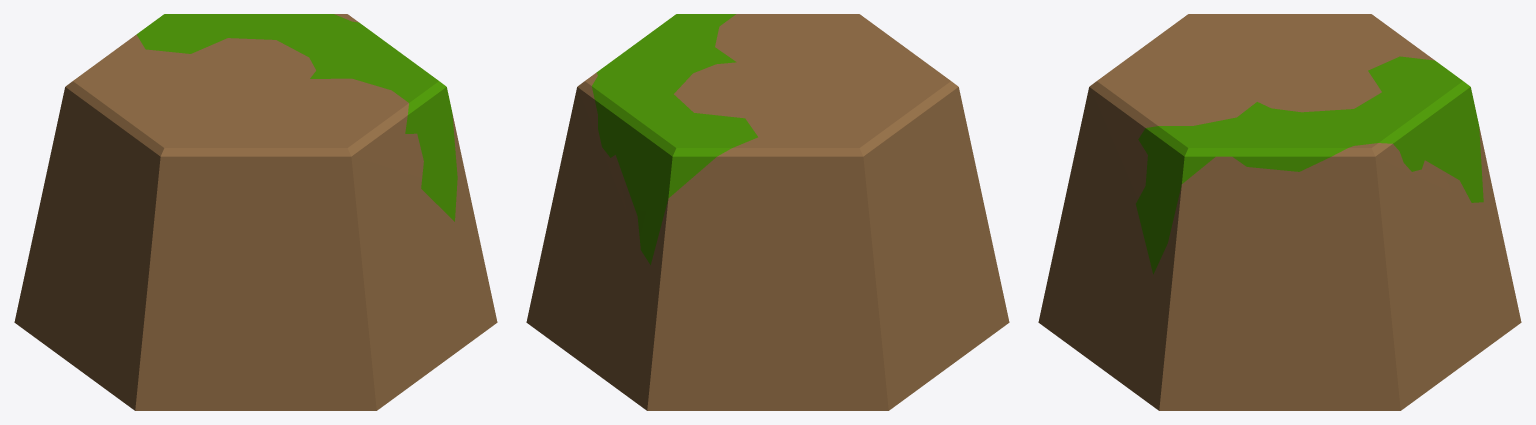
The model's file is RPG_Tiles_Hex_Mound_Moss_Large_01.FBX.
The picture shows the model from 3 angles, left to right: view 1: azimuth 30°, elevation 25°; view 2: azimuth 150°, elevation 25°; view 3: azimuth 270°, elevation 25°; orthographic projection.
Parts seen in each view (by area): view 1: RPG_Tiles_Hex_Mound_Moss_Large_01; view 2: RPG_Tiles_Hex_Mound_Moss_Large_01; view 3: RPG_Tiles_Hex_Mound_Moss_Large_01.
Boxes of the visible parts, x1,y1,x2,y2 form: RPG_Tiles_Hex_Mound_Moss_Large_01: (14, 14, 497, 410); RPG_Tiles_Hex_Mound_Moss_Large_01: (526, 14, 1009, 410); RPG_Tiles_Hex_Mound_Moss_Large_01: (1038, 14, 1521, 410).
Size of the model in its own units: 2346 by 1495 by 2709.
